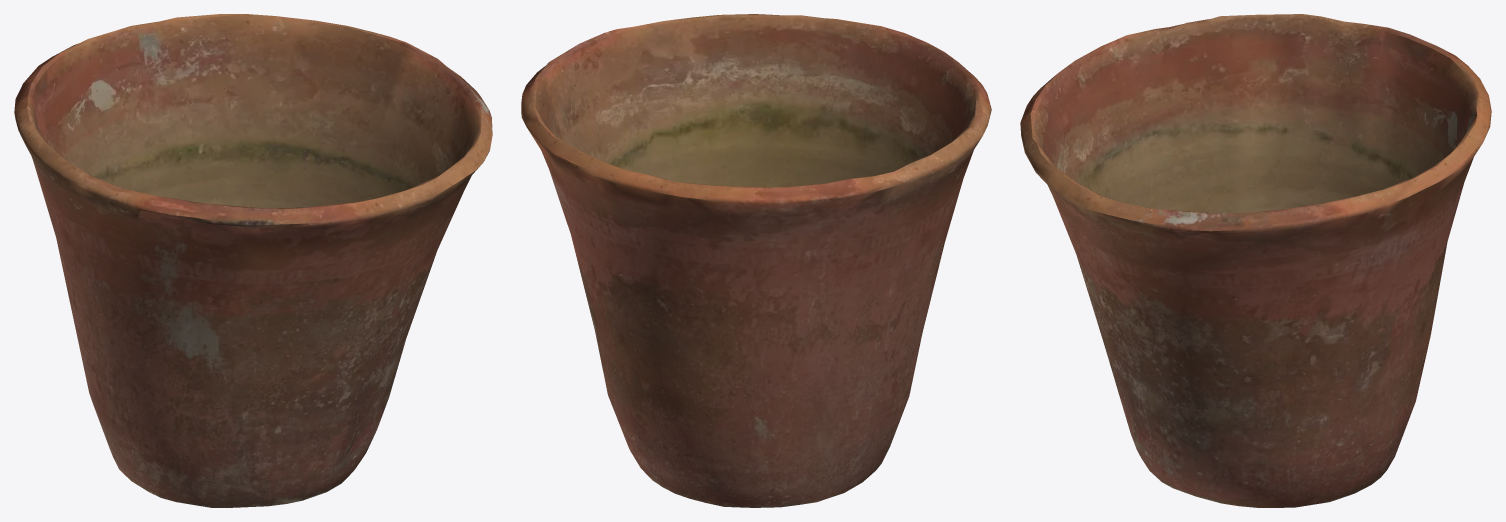
The model's file is pot_clay.glb.
3 views of the same model, side by side, from view 1: azimuth 30°, elevation 25°; view 2: azimuth 150°, elevation 25°; view 3: azimuth 270°, elevation 25° (orthographic).
Visible parts, largest first — view 1: pot_clay; view 2: pot_clay; view 3: pot_clay.
Part boxes in pixels (bbox=[...]): pot_clay: bbox=[14, 14, 492, 507]; pot_clay: bbox=[521, 14, 991, 507]; pot_clay: bbox=[1020, 14, 1491, 507].
Size of the model in its own units: 0.6003 by 0.5 by 0.5939.
Materials: 1 (1 with a texture image).
